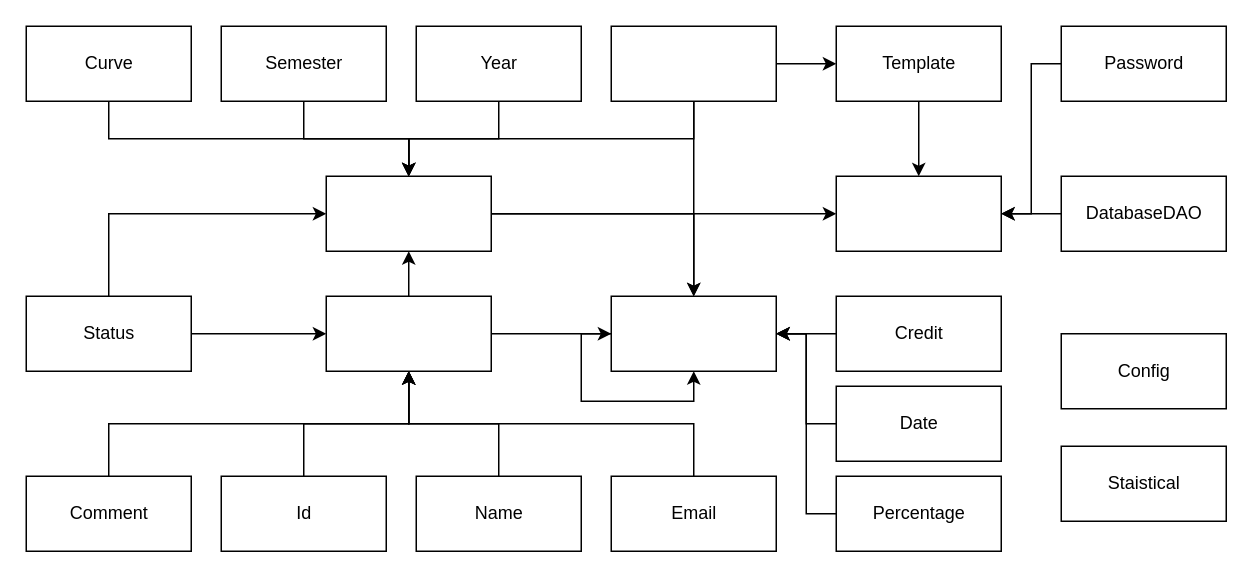
The diagram is 1253 pixels wide and 578 high, and some of its shapes have lost their labels. Each missing label, with the centre of its shape:
"Assignment" goes at (693,333).
"Course" goes at (408,213).
"Criteria" goes at (693,63).
"GradingSystem" goes at (918,213).
"Student" goes at (408,333).
